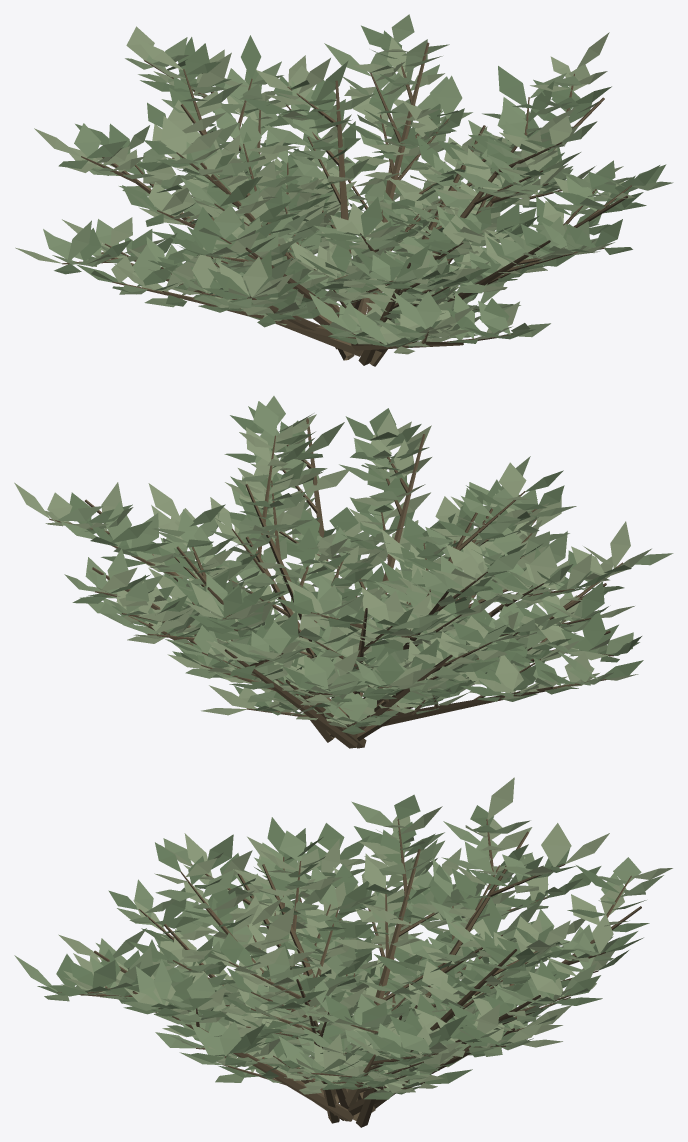
Rendered from bush_19.glb.
3 renders of one model, top to bottom at view 1: azimuth 30°, elevation 25°; view 2: azimuth 150°, elevation 25°; view 3: azimuth 270°, elevation 25°, orthographic.
Visible parts, largest first — view 1: bush_19; view 2: bush_19; view 3: bush_19.
Boxes of the visible parts, left/top/right/bottom form: bush_19: left=15, top=14, right=673, bottom=366; bush_19: left=14, top=396, right=673, bottom=748; bush_19: left=14, top=777, right=672, bottom=1127.
Size of the model in its own units: 2.13 by 0.8393 by 2.03.
